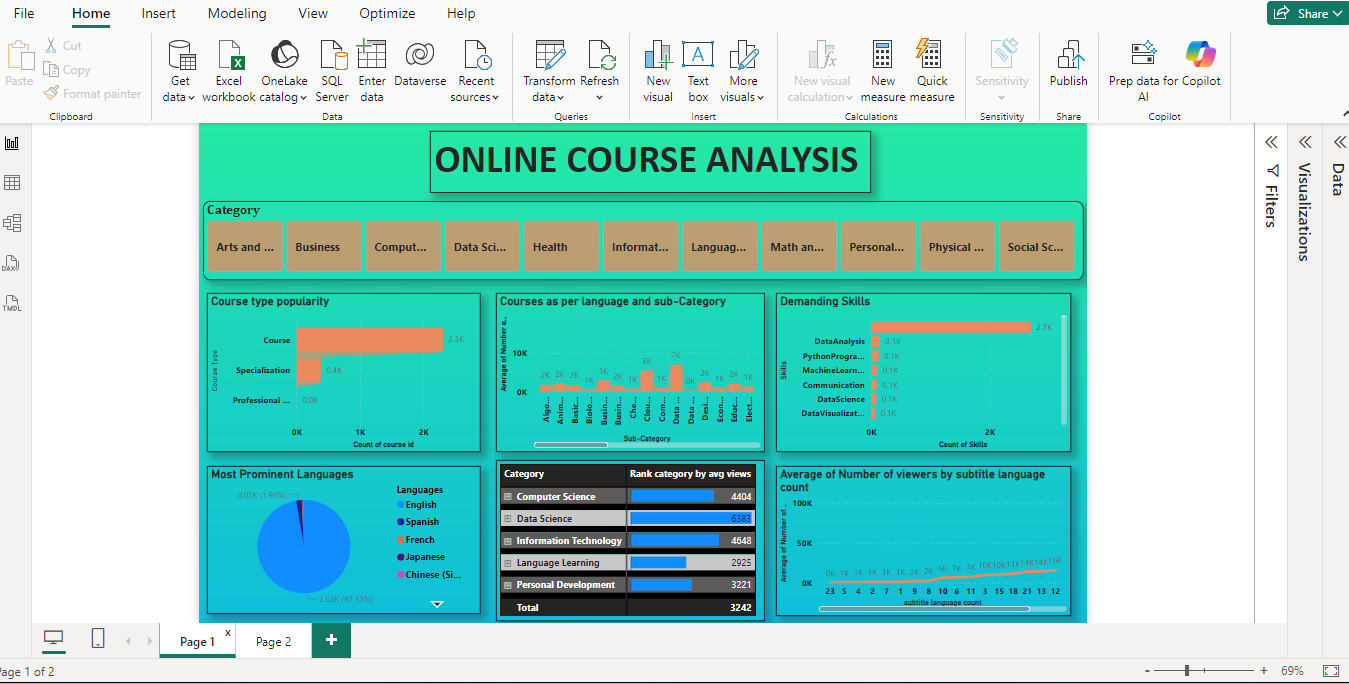

The dashboard page shown, as its layout file describes it:
{"tool":"powerbi","page":{"name":"Page 1","canvas":[1280,720],"ordinal":0},"visuals":[{"type":"advancedSlicerVisual","fields":{"Values":["Online_Courses.Category"]},"box":[5.8,112.4,1268.3,113.8],"z":0},{"type":"barChart","title":"Course type popularity","fields":{"Category":["Online_Courses.Course Type"],"Y":["CountNonNull(Online_Courses.course id)"]},"box":[11.7,245.2,394.1,229.1],"z":1000},{"type":"textbox","box":[332.8,11.7,634.9,89],"z":2000},{"type":"columnChart","title":"Courses as per language and sub-Category","fields":{"Category":["Online_Courses.Sub-Category","Online_Courses.Language"],"Y":["Avg(Online_Courses.Number of viewers)"]},"box":[427.6,245.2,386.8,229.1],"z":3000},{"type":"clusteredBarChart","title":"Demanding Skills","fields":{"Category":["skills set.Skills"],"Y":["CountNonNull(skills set.Skills)"]},"box":[830.5,245.2,424.7,229.1],"z":4000},{"type":"pieChart","title":"Most Prominent Languages","fields":{"Category":["Online_Courses.Language"],"Y":["CountNonNull(Online_Courses.course id)"]},"box":[11.7,493.3,394.1,213.1],"z":5000},{"type":"pivotTable","fields":{"Rows":["Online_Courses.Category","Online_Courses.Language"],"Values":["Online_Courses.Rank category by avg views"]},"box":[427.6,484.6,386.8,232.1],"z":6000},{"type":"lineChart","fields":{"Category":["Online_Courses.subtitle language count"],"Y":["Avg(Online_Courses.Number of viewers)"]},"box":[830.5,493.3,424.7,216],"z":7000}]}

Visuals, with their boxes on the page's 1280x720 design canvas (x1, y1, x2, y2). These are canvas units, not pixel positions in the 1349x684 screenshot, which may show the page scaled, cropped or inside an application window:
advancedSlicerVisual - Online_Courses.Category: locate(6, 112, 1274, 226)
"Course type popularity" barChart: locate(12, 245, 406, 474)
textbox: locate(333, 12, 968, 101)
"Courses as per language and sub-Category" columnChart: locate(428, 245, 814, 474)
"Demanding Skills" clusteredBarChart: locate(830, 245, 1255, 474)
"Most Prominent Languages" pieChart: locate(12, 493, 406, 706)
pivotTable - Online_Courses.Category x Online_Courses.Language: locate(428, 485, 814, 717)
lineChart - Online_Courses.subtitle language count x Avg(Online_Courses.Number of viewers): locate(830, 493, 1255, 709)
